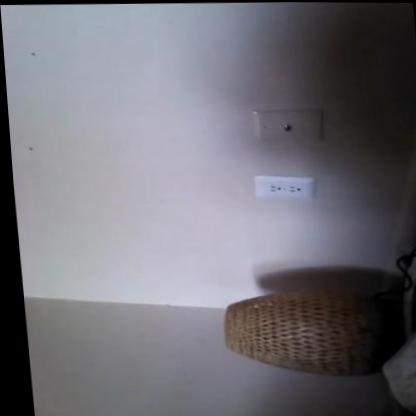OUTLET: (253, 173, 315, 198)
